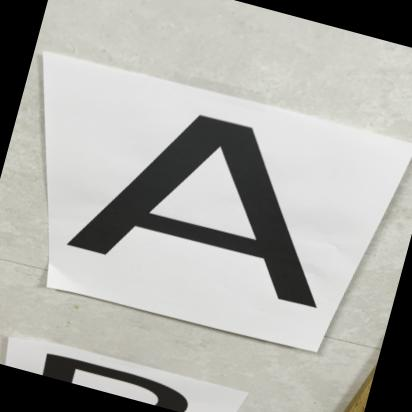seat: (63, 80, 376, 328)
